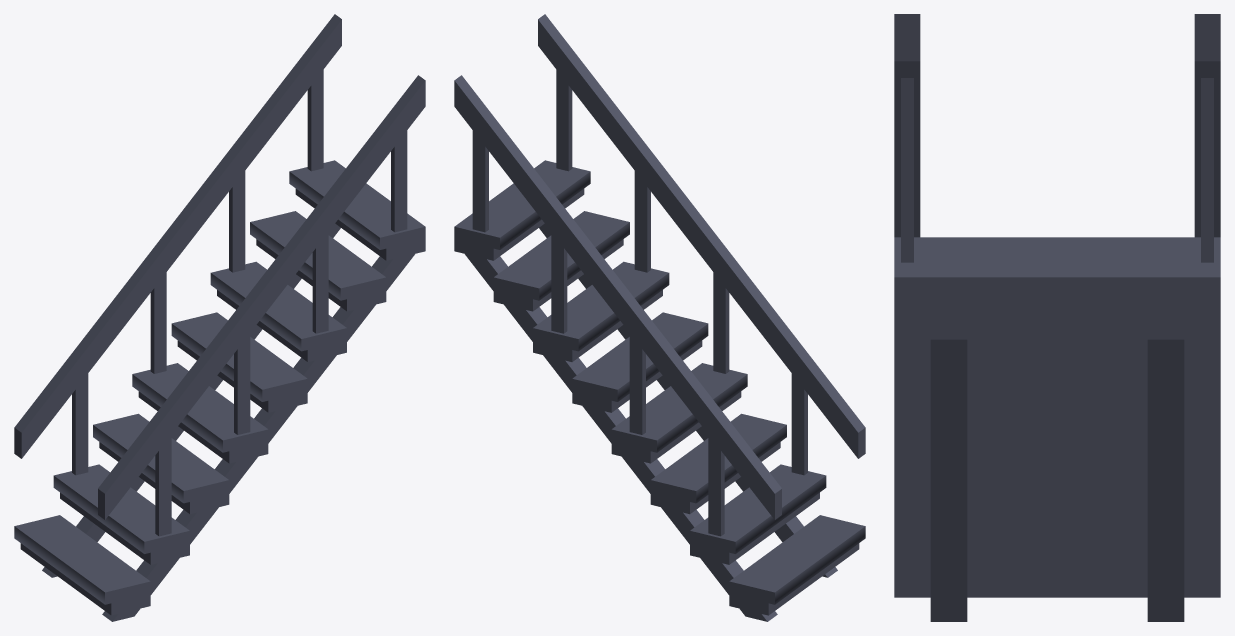
File: stairs-wood-handrail.glb
3 views of the same model, side by side, from view 1: azimuth 30°, elevation 25°; view 2: azimuth 150°, elevation 25°; view 3: azimuth 270°, elevation 25° (orthographic). The views are drawn at different scales.
Visible parts, largest first — view 1: stairs-wood-handrail; view 2: stairs-wood-handrail; view 3: stairs-wood-handrail.
Boxes of the visible parts, bbox=[...] form: stairs-wood-handrail: bbox=[14, 14, 425, 621]; stairs-wood-handrail: bbox=[454, 14, 865, 621]; stairs-wood-handrail: bbox=[894, 14, 1220, 621].
Bounding box in the file's own units: 1.02 × 1.45 × 0.5.
1 material, 1 textured.
